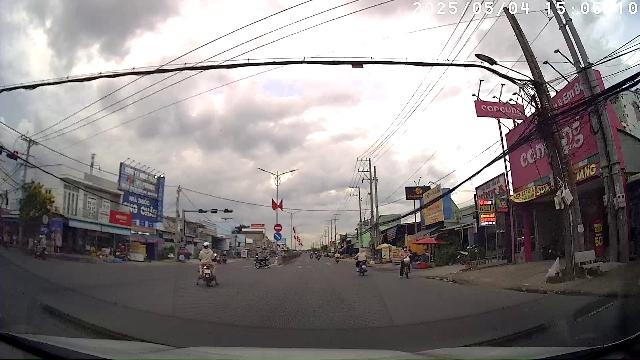102-cam-di-nguoc-chieu: (274, 224, 282, 232)
302a-huong-phai-di-vong-chuong-ngai-vat-1: (274, 232, 282, 240)
